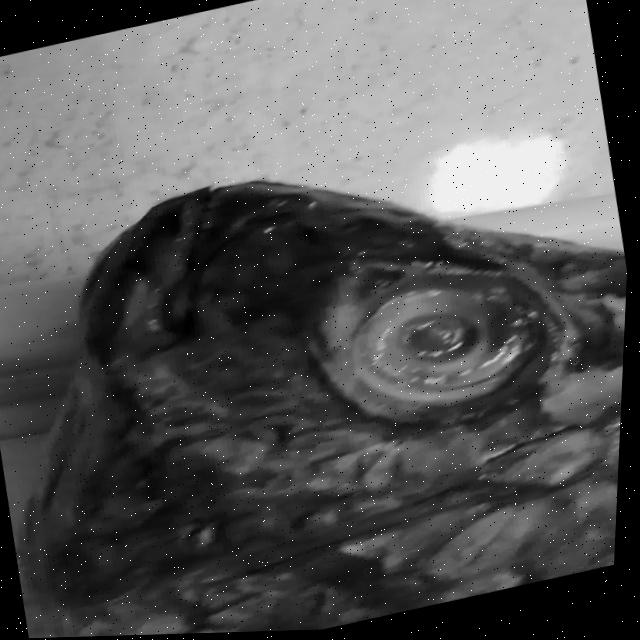Non-Fresh: (324, 239, 565, 439)
